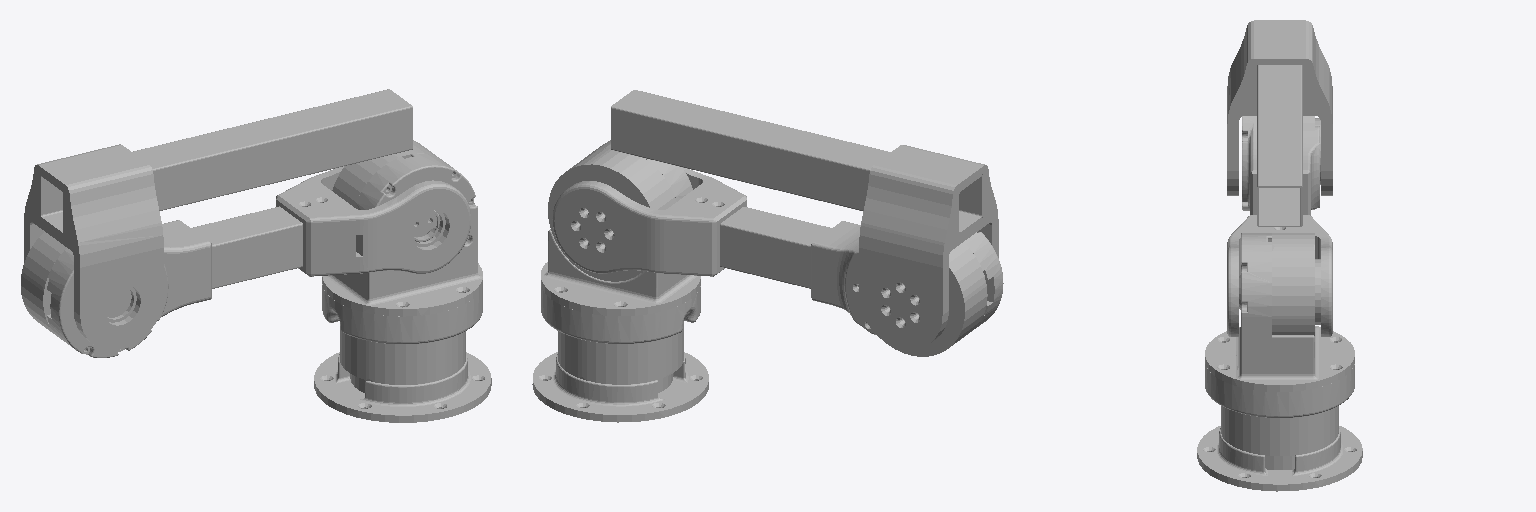
The robot description file, URDF, robot "urdf":
<?xml version="1.0" encoding="utf-8"?>
<!-- This URDF was automatically created by SolidWorks to URDF Exporter! Originally created by Stephen Brawner (brawner@gmail.com) 
     Commit Version: 1.6.0-4-g7f85cfe  Build Version: 1.6.7995.38578
     For more information, please see http://wiki.ros.org/sw_urdf_exporter -->
<robot
  name="urdf">
  <link
    name="base_link">
    <inertial>
      <origin
        xyz="0.0001453 -7.3232E-07 0.02219"
        rpy="0 0 0" />
      <mass
        value="0.24946" />
      <inertia
        ixx="0.00014181"
        ixy="6.28E-09"
        ixz="-2.6684E-07"
        iyy="0.00013613"
        iyz="1.232E-09"
        izz="0.00022186" />
    </inertial>
    <visual>
      <origin
        xyz="0 0 0"
        rpy="0 0 0" />
      <geometry>
        <mesh
          filename="package://urdf/meshes/base_link.STL" />
      </geometry>
      <material
        name="">
        <color
          rgba="0.75294 0.75294 0.75294 1" />
      </material>
    </visual>
    <collision>
      <origin
        xyz="0 0 0"
        rpy="0 0 0" />
      <geometry>
        <mesh
          filename="package://urdf/meshes/base_link.STL" />
      </geometry>
    </collision>
  </link>
  <link
    name="shoulder_link">
    <inertial>
      <origin
        xyz="0.00016679 0.0012245 -0.023903"
        rpy="0 0 0" />
      <mass
        value="0.4346" />
      <inertia
        ixx="0.00030526"
        ixy="-2.0276E-10"
        ixz="2.2449E-07"
        iyy="0.00038654"
        iyz="2.4833E-05"
        izz="0.00039063" />
    </inertial>
    <visual>
      <origin
        xyz="0 0 0"
        rpy="0 0 0" />
      <geometry>
        <mesh
          filename="package://urdf/meshes/shoulder_link.STL" />
      </geometry>
      <material
        name="">
        <color
          rgba="0.75294 0.75294 0.75294 1" />
      </material>
    </visual>
    <collision>
      <origin
        xyz="0 0 0"
        rpy="0 0 0" />
      <geometry>
        <mesh
          filename="package://urdf/meshes/shoulder_link.STL" />
      </geometry>
    </collision>
  </link>
  <joint
    name="shoulder_pitch"
    type="revolute">
    <origin
      xyz="0 -0.0015 0.1205"
      rpy="0 0 0" />
    <parent
      link="base_link" />
    <child
      link="shoulder_link" />
    <axis
      xyz="0 0 -1" />
    <limit
      lower="-3.14"
      upper="3.14"
      effort="0"
      velocity="0" />
  </joint>
  <link
    name="upperArm_link">
    <inertial>
      <origin
        xyz="-0.16504 0.0019744 3.2793E-08"
        rpy="0 0 0" />
      <mass
        value="0.38582" />
      <inertia
        ixx="0.00023872"
        ixy="-2.5122E-05"
        ixz="3.1395E-10"
        iyy="0.00037986"
        iyz="1.5385E-10"
        izz="0.00037655" />
    </inertial>
    <visual>
      <origin
        xyz="0 0 0"
        rpy="0 0 0" />
      <geometry>
        <mesh
          filename="package://urdf/meshes/upperArm_link.STL" />
      </geometry>
      <material
        name="">
        <color
          rgba="0.75294 0.75294 0.75294 1" />
      </material>
    </visual>
    <collision>
      <origin
        xyz="0 0 0"
        rpy="0 0 0" />
      <geometry>
        <mesh
          filename="package://urdf/meshes/upperArm_link.STL" />
      </geometry>
    </collision>
  </link>
  <joint
    name="upperArm_pitch"
    type="revolute">
    <origin
      xyz="0 0 0"
      rpy="0 0 0" />
    <parent
      link="shoulder_link" />
    <child
      link="upperArm_link" />
    <axis
      xyz="0 1 0" />
    <limit
      lower="0"
      upper="3.14"
      effort="0"
      velocity="0" />
  </joint>
  <link
    name="foreArm_link">
    <inertial>
      <origin
        xyz="0.016262 0.0021201 0.041839"
        rpy="0 0 0" />
      <mass
        value="0.16941" />
      <inertia
        ixx="0.00021126"
        ixy="8.6409E-12"
        ixz="-2.3572E-10"
        iyy="0.00031247"
        iyz="3.9576E-06"
        izz="0.00028419" />
    </inertial>
    <visual>
      <origin
        xyz="0 0 0"
        rpy="0 0 0" />
      <geometry>
        <mesh
          filename="package://urdf/meshes/foreArm_link.STL" />
      </geometry>
      <material
        name="">
        <color
          rgba="0.75294 0.75294 0.75294 1" />
      </material>
    </visual>
    <collision>
      <origin
        xyz="0 0 0"
        rpy="0 0 0" />
      <geometry>
        <mesh
          filename="package://urdf/meshes/foreArm_link.STL" />
      </geometry>
    </collision>
  </link>
  <joint
    name="foreArm_pitch"
    type="fixed">
    <origin
      xyz="-0.22125 0 0"
      rpy="0 0 0" />
    <parent
      link="upperArm_link" />
    <child
      link="foreArm_link" />
    <axis
      xyz="0 0 0" />
  </joint>
</robot>

--- Facts derived from the render (not from the file) ---
Views: 3 orthographic renders of the robot side by side, from view 1: azimuth 30°, elevation 25°; view 2: azimuth 150°, elevation 25°; view 3: azimuth 270°, elevation 25°.
Robot: urdf — 4 links, 3 joints (2 revolute, 1 fixed); root link base_link; default pose: all joints at 0.
Visible links, largest first — view 1: foreArm_link, upperArm_link, shoulder_link, base_link; view 2: foreArm_link, upperArm_link, shoulder_link, base_link; view 3: shoulder_link, foreArm_link, base_link, upperArm_link.
Boxes of the visible links, <box> form: foreArm_link: <box>24,89,412,349</box>; upperArm_link: <box>21,166,470,357</box>; shoulder_link: <box>322,140,482,343</box>; base_link: <box>314,326,491,422</box>; foreArm_link: <box>611,90,998,349</box>; upperArm_link: <box>552,168,1003,356</box>; shoulder_link: <box>541,140,700,343</box>; base_link: <box>532,322,708,422</box>; shoulder_link: <box>1205,233,1354,417</box>; foreArm_link: <box>1227,20,1332,226</box>; base_link: <box>1197,406,1362,491</box>; upperArm_link: <box>1227,116,1332,336</box>.
Bounding box of the posed robot: 0.3155 × 0.11 × 0.2025 m (x, y, z).
4 mesh visuals loaded from 4 distinct referenced files (4 binary STL).
